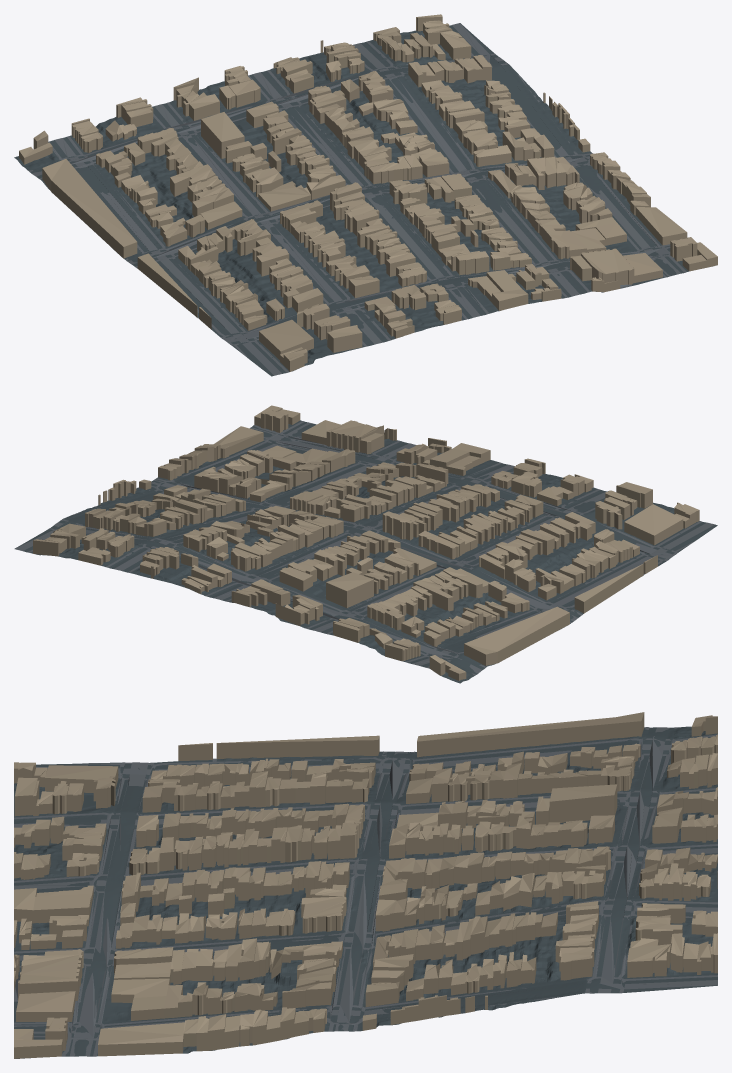
The model's file is epsg26910-1440-10884.lod0.glb.
3 views of the same model, one above another, from view 1: azimuth 30°, elevation 25°; view 2: azimuth 150°, elevation 25°; view 3: azimuth 270°, elevation 25° (orthographic). The views are drawn at different scales.
Visible parts, largest first — view 1: epsg26910-1440-10884-lod0; view 2: epsg26910-1440-10884-lod0; view 3: epsg26910-1440-10884-lod0.
Boxes of the visible parts, left/top/right/bottom form: epsg26910-1440-10884-lod0: left=14, top=14, right=717, bottom=376; epsg26910-1440-10884-lod0: left=14, top=405, right=717, bottom=683; epsg26910-1440-10884-lod0: left=14, top=712, right=717, bottom=1058.
Size of the model in its own units: 384 by 60.67 by 384.
